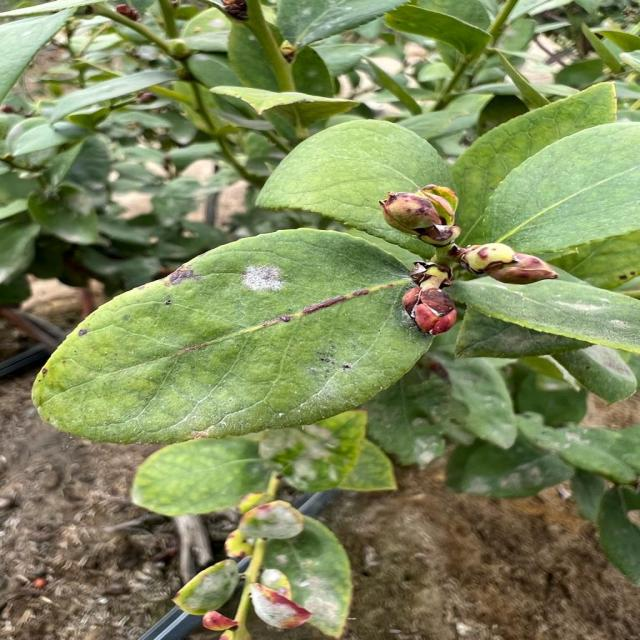Hojas con oidiosis: (182, 261, 355, 351), (234, 504, 356, 624), (248, 422, 362, 488), (542, 275, 640, 343), (392, 433, 469, 477)
